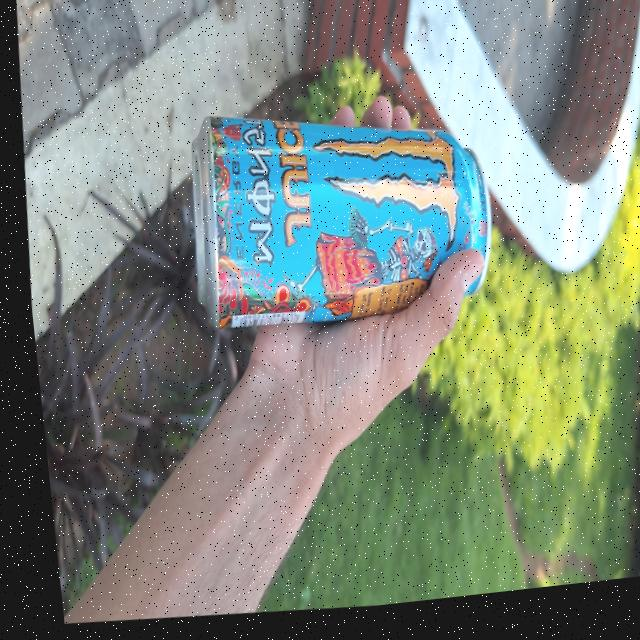Monster Mango Loco: (178, 81, 501, 353)
